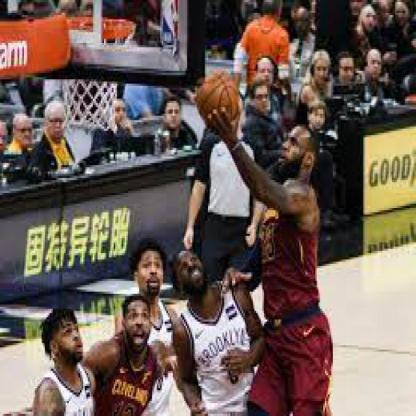basketball: (195, 71, 239, 129)
rim: (59, 17, 133, 43)
